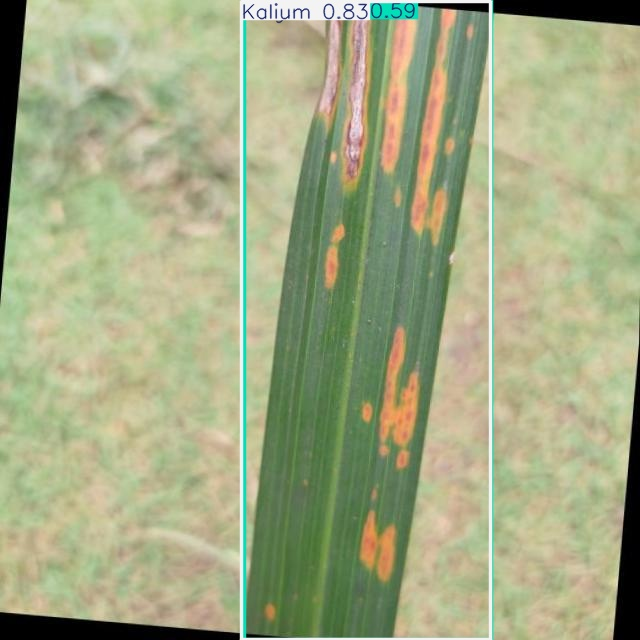Kalium: (241, 2, 490, 639)
Megnesium: (245, 1, 491, 640)
